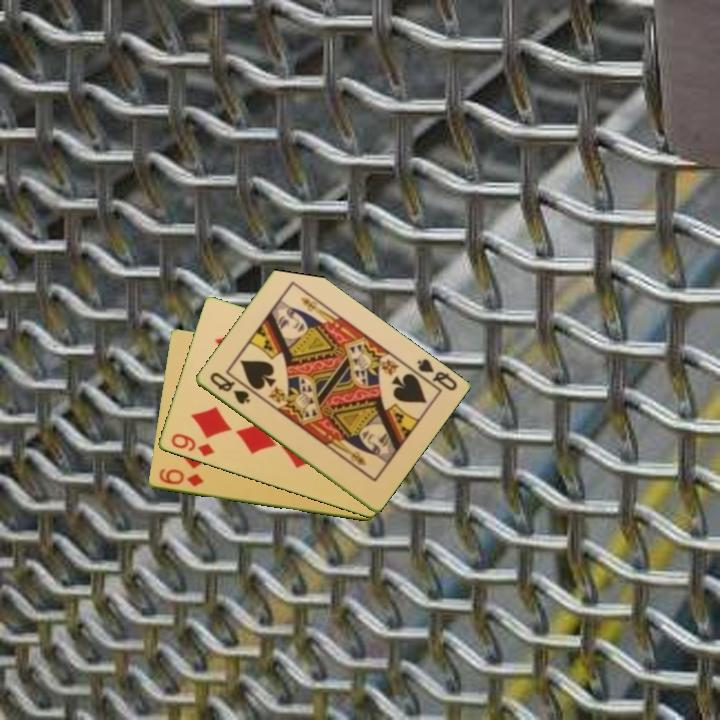6d: (155, 465, 206, 490)
9d: (167, 430, 217, 459)
Qs: (407, 355, 460, 394), (206, 369, 253, 407)
